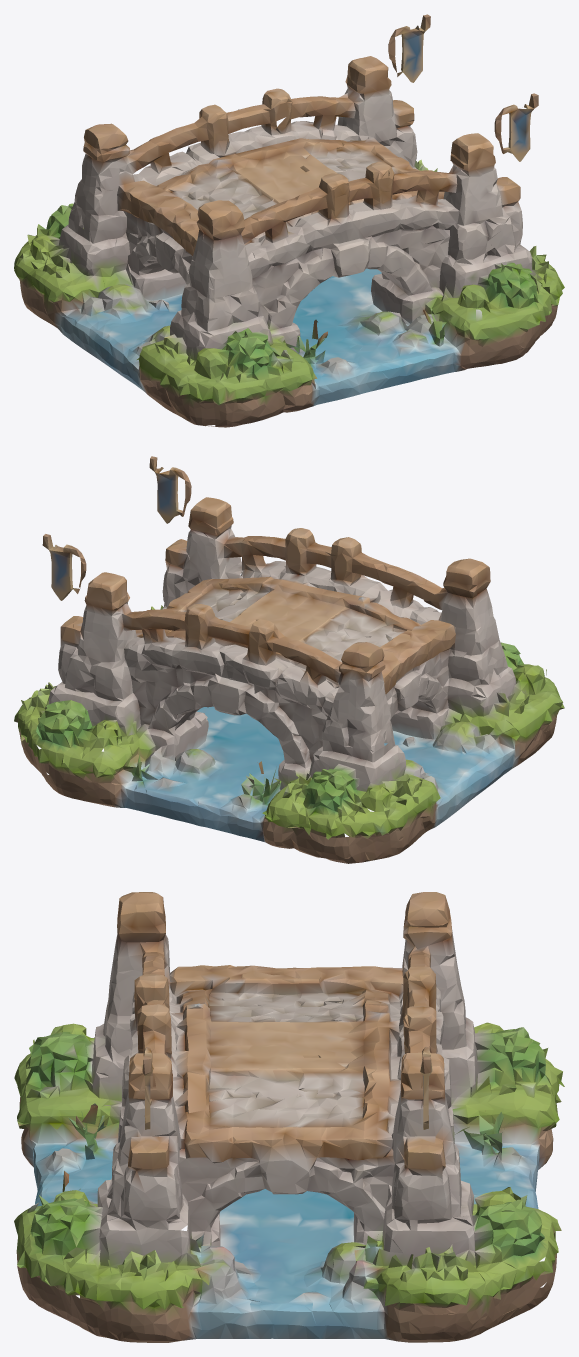
Rendered from world_stone_bridge_lod1.glb.
3 views of the same model, one above another, from view 1: azimuth 30°, elevation 25°; view 2: azimuth 150°, elevation 25°; view 3: azimuth 270°, elevation 25° (orthographic). The views are drawn at different scales.
Parts seen in each view (by area): view 1: world; view 2: world; view 3: world.
Part boxes in pixels (x1=…): world: x1=14, y1=14, x2=564, y2=427; world: x1=14, y1=456, x2=564, y2=863; world: x1=14, y1=892, x2=564, y2=1342.
Size of the model in its own units: 1.89 by 0.9582 by 1.69.
